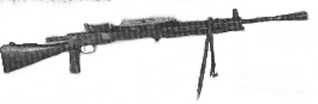rifle: (1, 10, 308, 95)
